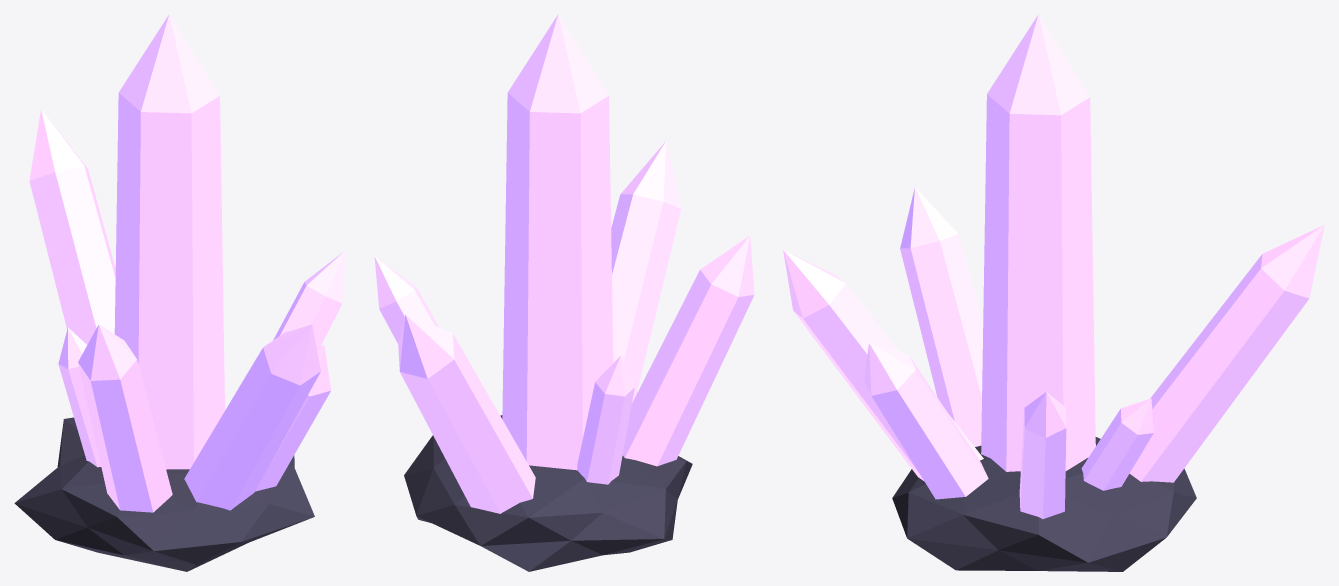
File: crystal_spire.glb
3 renders of one model, left to right at view 1: azimuth 30°, elevation 25°; view 2: azimuth 150°, elevation 25°; view 3: azimuth 270°, elevation 25°, orthographic.
Parts seen in each view (by area): view 1: CrystalSpire; view 2: CrystalSpire; view 3: CrystalSpire.
Boxes of the visible parts, x1=… form: CrystalSpire: x1=14, y1=14, x2=345, y2=571; CrystalSpire: x1=374, y1=14, x2=754, y2=571; CrystalSpire: x1=783, y1=14, x2=1324, y2=571.
Bounding box in the file's own units: 2.99 × 4.72 × 4.33.
